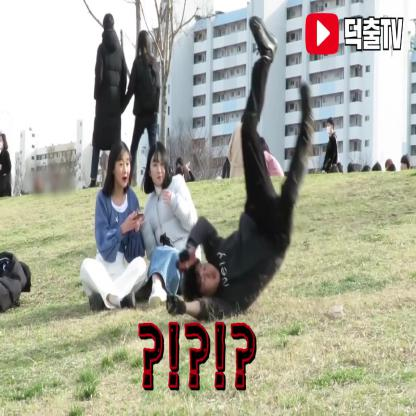Fall_Down: (165, 14, 313, 324)
